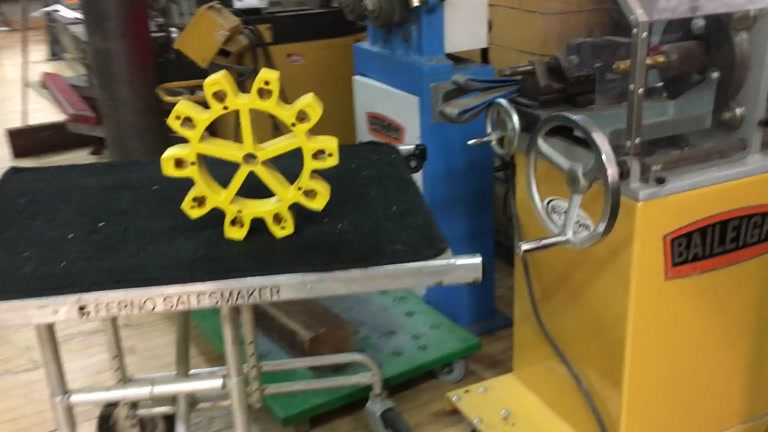gear: (159, 65, 341, 243)
